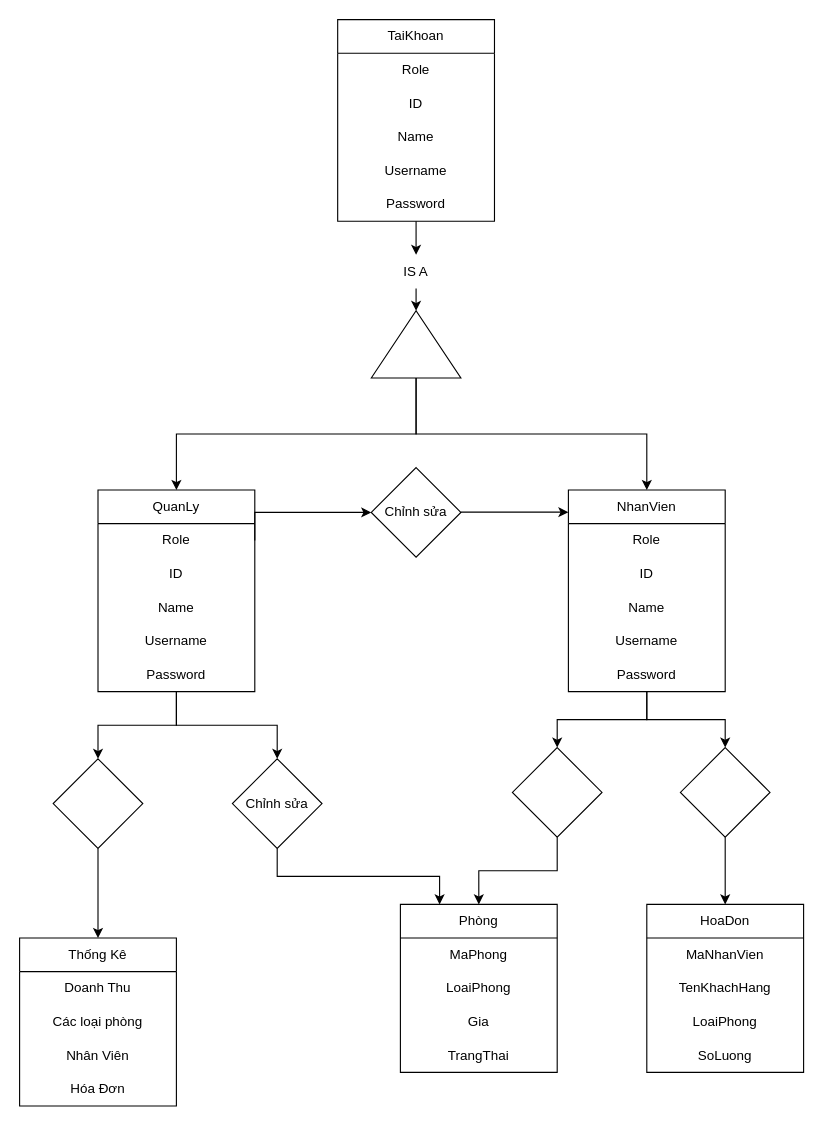
Some shapes in this 823 by 1126 pixel diagram are drawn without their labels. The centre of each missing label's shape, as x and y in pixels:
"Tạo" goes at (724,791).
"Xem" goes at (97,803).
"Đặt Phòng" goes at (556,791).
